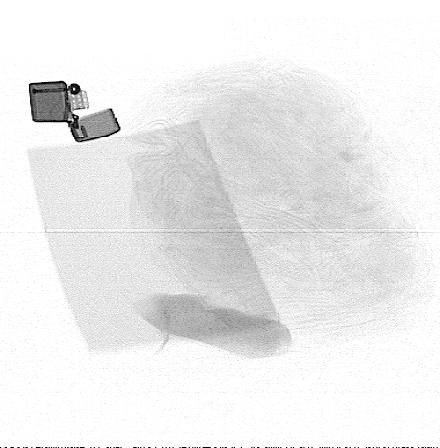Lighter: (27, 80, 121, 143)
